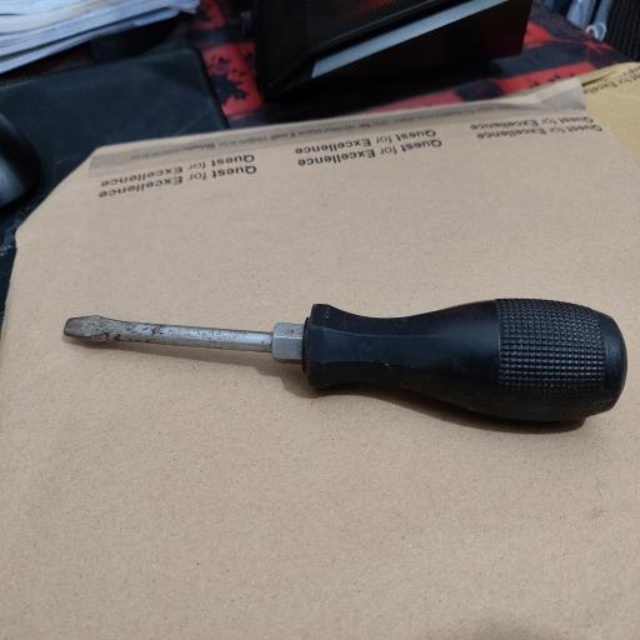screwdriver: (62, 298, 628, 429)
